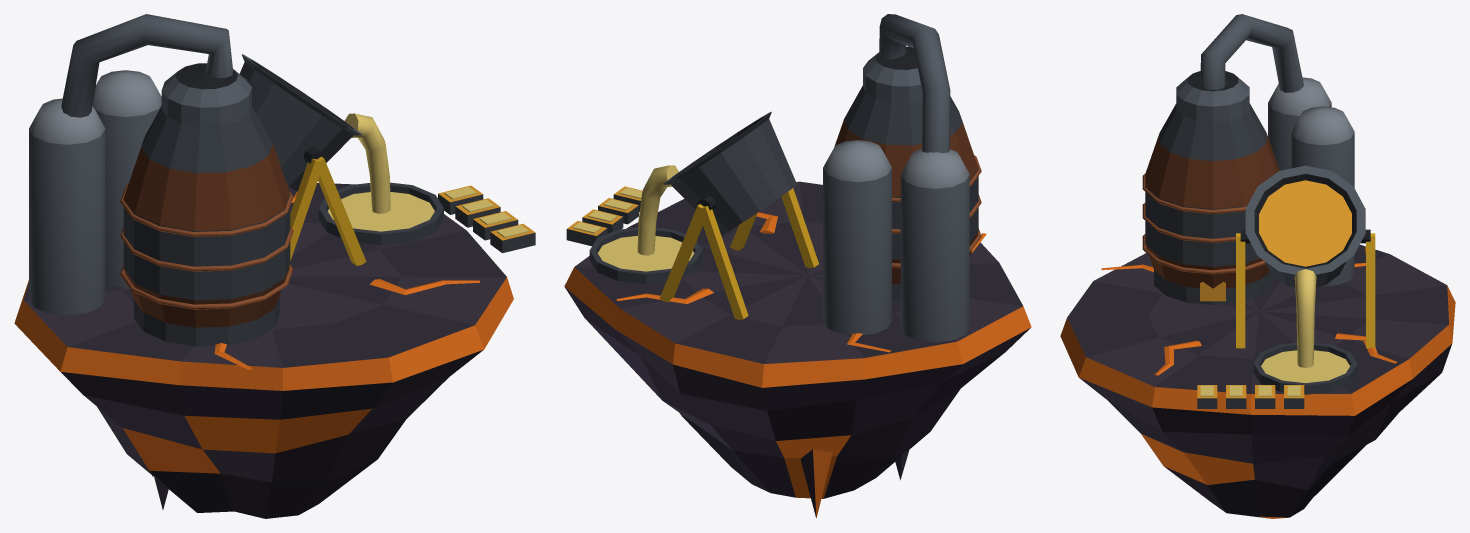
Rendered from furnace_island.glb.
The picture shows the model from 3 angles, left to right: view 1: azimuth 30°, elevation 25°; view 2: azimuth 150°, elevation 25°; view 3: azimuth 270°, elevation 25°; orthographic projection. The views are drawn at different scales.
Parts seen in each view (by area): view 1: Works, Rock; view 2: Rock, Works; view 3: Rock, Works.
Part boxes in pixels (x1,y1,x2,y2): Works: (29, 14, 535, 370); Rock: (14, 183, 513, 518); Rock: (564, 181, 1031, 518); Works: (566, 14, 986, 352); Rock: (1060, 244, 1455, 518); Works: (1101, 14, 1397, 408).
Bounding box in the file's own units: 15.37 × 17.14 × 13.67.
